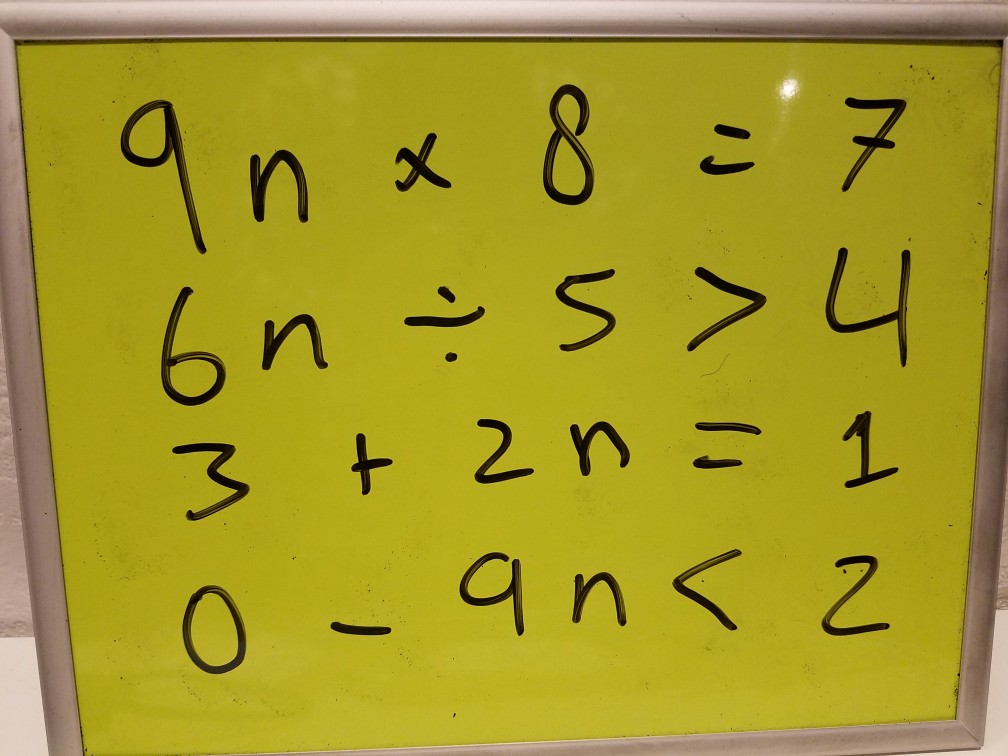+: (334, 422, 395, 504)
-: (327, 603, 399, 647)
0: (174, 580, 254, 682)
1: (833, 406, 904, 494)
2: (812, 550, 899, 640), (463, 413, 536, 493)
3: (164, 429, 256, 530)
4: (816, 233, 924, 374)
5: (550, 259, 629, 362)
6: (152, 277, 236, 406)
7: (823, 77, 911, 195)
8: (534, 76, 601, 210)
9: (115, 89, 216, 259), (450, 541, 534, 645)
<: (665, 539, 751, 642)
=: (680, 405, 766, 481), (689, 110, 763, 183)
>: (677, 254, 771, 358)
div: (395, 275, 492, 365)
n: (242, 138, 324, 236), (564, 407, 640, 487), (257, 310, 334, 385), (564, 562, 633, 640)
x: (382, 127, 463, 198)
